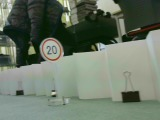speed_20: (39, 37, 64, 63)
